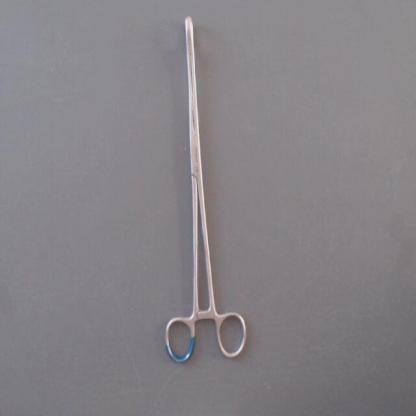Sponge Forceps: (160, 7, 256, 372)
